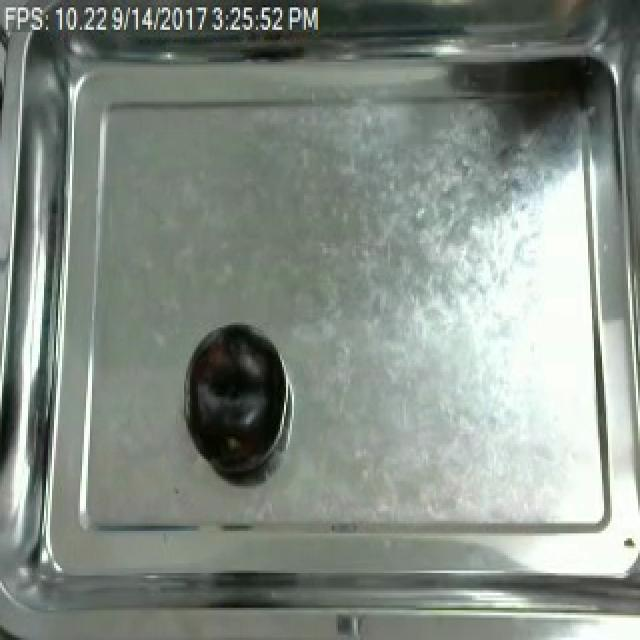Fruit: (180, 325, 284, 474)
